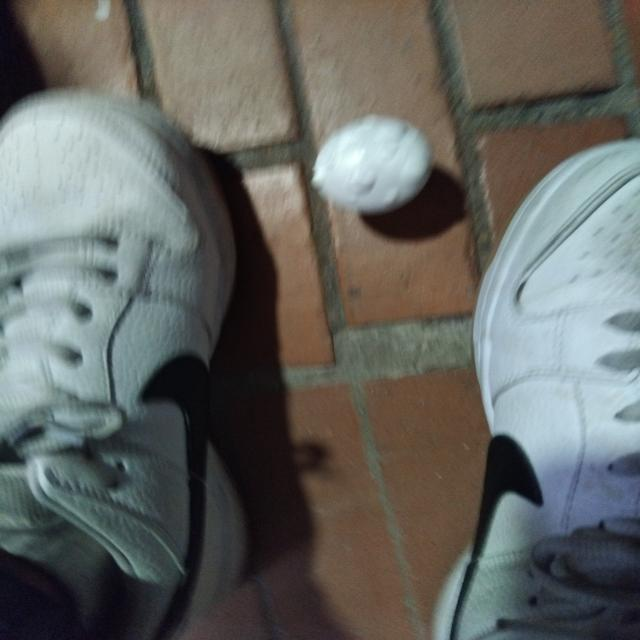Hongo: (303, 118, 440, 214)
